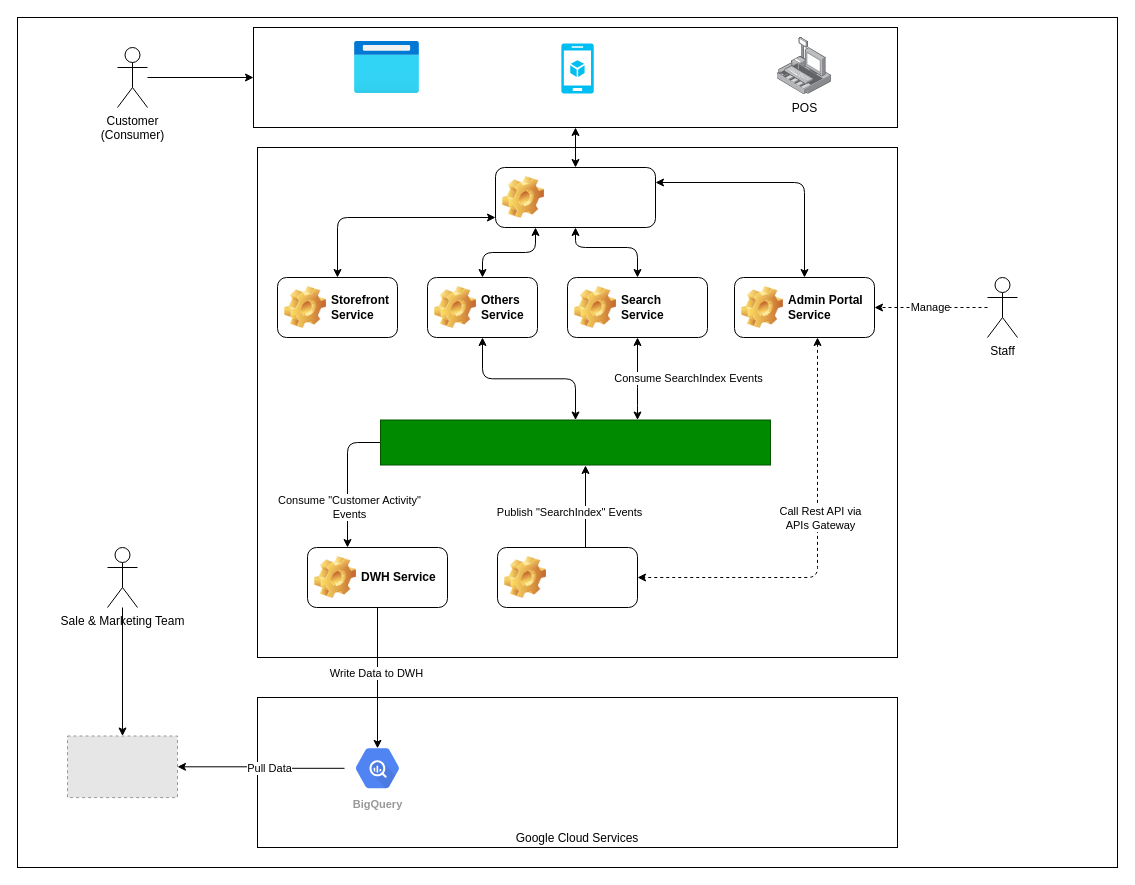
Image size: 1135x885. Some labels were removed from this diagram. Grey dashed boxes stand in for pictures. The centre of each missing label's shape, as x and y in pixels:
API Gateway: [575,197]
Browser: [386,67]
Eventbus (Temporal.io): [575,442]
Inventory Service: [567,577]
Mobile Apps: [577,68]
